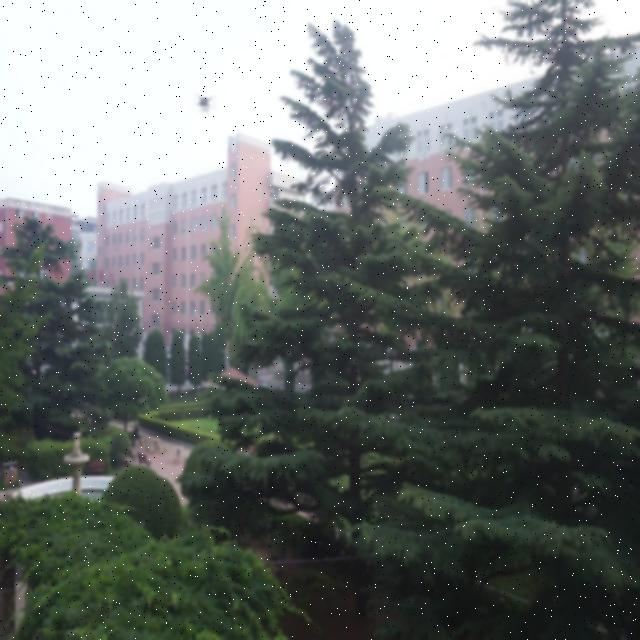UAV: (193, 93, 216, 113)
